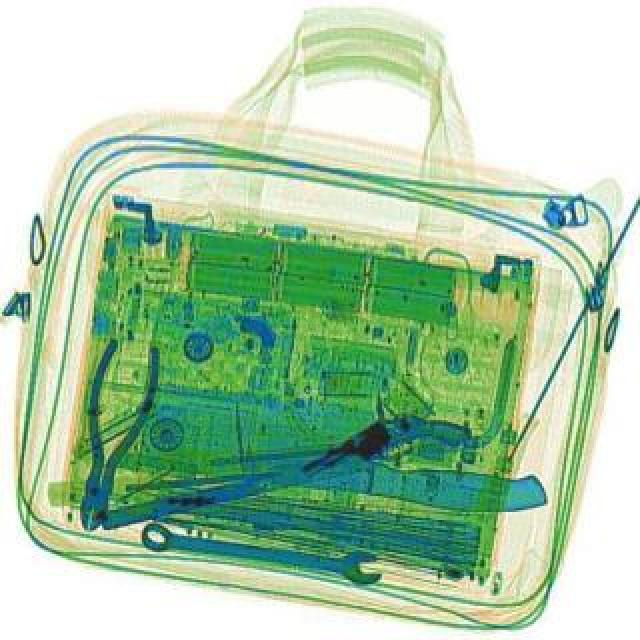gun: (294, 382, 474, 518)
knife: (134, 374, 558, 522)
scissors: (134, 514, 386, 586)
wrench: (54, 334, 166, 540)
